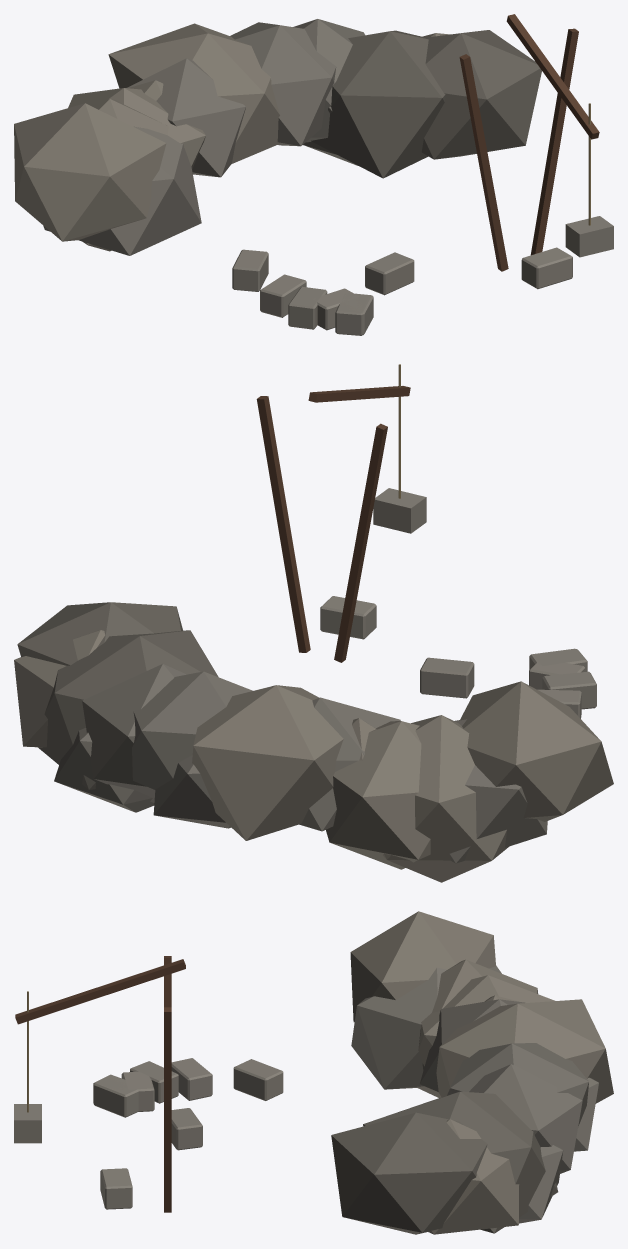
The model's file is quarry_1.glb.
3 views of the same model, one above another, from view 1: azimuth 30°, elevation 25°; view 2: azimuth 150°, elevation 25°; view 3: azimuth 270°, elevation 25° (orthographic). The views are drawn at different scales.
Parts seen in each view (by area): view 1: quarry1_stone, quarry1_wood; view 2: quarry1_stone, quarry1_wood; view 3: quarry1_stone, quarry1_wood.
Part boxes in pixels (<box>): quarry1_stone: <box>14,19,613,335</box>; quarry1_wood: <box>459,14,599,271</box>; quarry1_stone: <box>14,488,613,882</box>; quarry1_wood: <box>256,386,410,662</box>; quarry1_stone: <box>14,911,613,1234</box>; quarry1_wood: <box>15,956,185,1212</box>.
Size of the model in its own units: 10.36 by 5.43 by 10.73.
